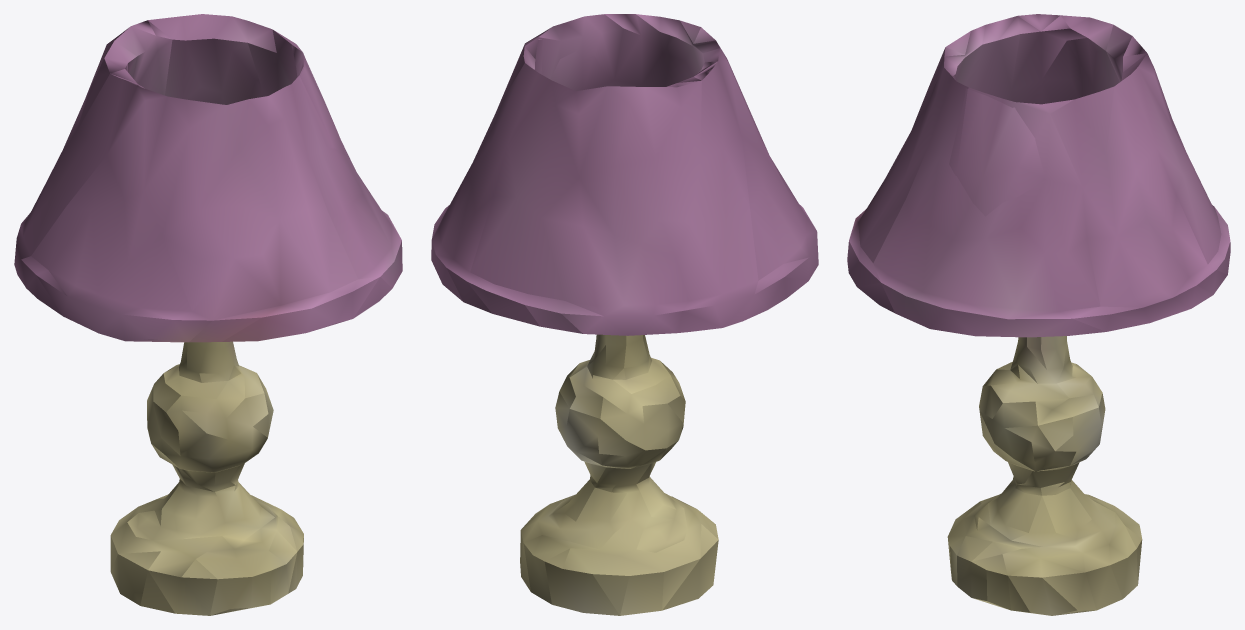
The model's file is LampTable01.fbx.
The picture shows the model from 3 angles, left to right: view 1: azimuth 30°, elevation 25°; view 2: azimuth 150°, elevation 25°; view 3: azimuth 270°, elevation 25°; orthographic projection.
Visible parts, largest first — view 1: LampTable01; view 2: LampTable01; view 3: LampTable01.
Part boxes in pixels (x1,y1,x2,y2): LampTable01: (14,14,402,615); LampTable01: (431,14,818,615); LampTable01: (847,14,1230,615).
Size of the model in its own units: 48.3 by 73.19 by 48.55.
